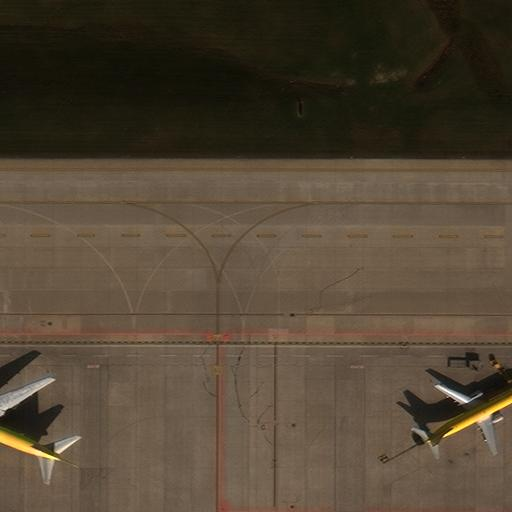Large Civil Transport: (0, 375, 60, 484)
Medium Civil Transport: (425, 384, 511, 453)
